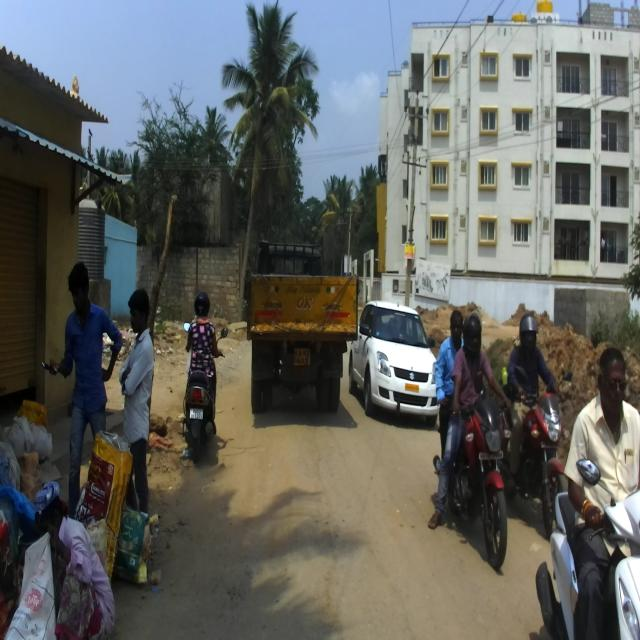car ahead at: (358, 299, 437, 422)
motorcycle ahead at: (452, 394, 518, 569), (182, 381, 228, 458)
person ahead at: (57, 261, 115, 469), (120, 281, 156, 506)
truck ahead at: (249, 230, 357, 412)
